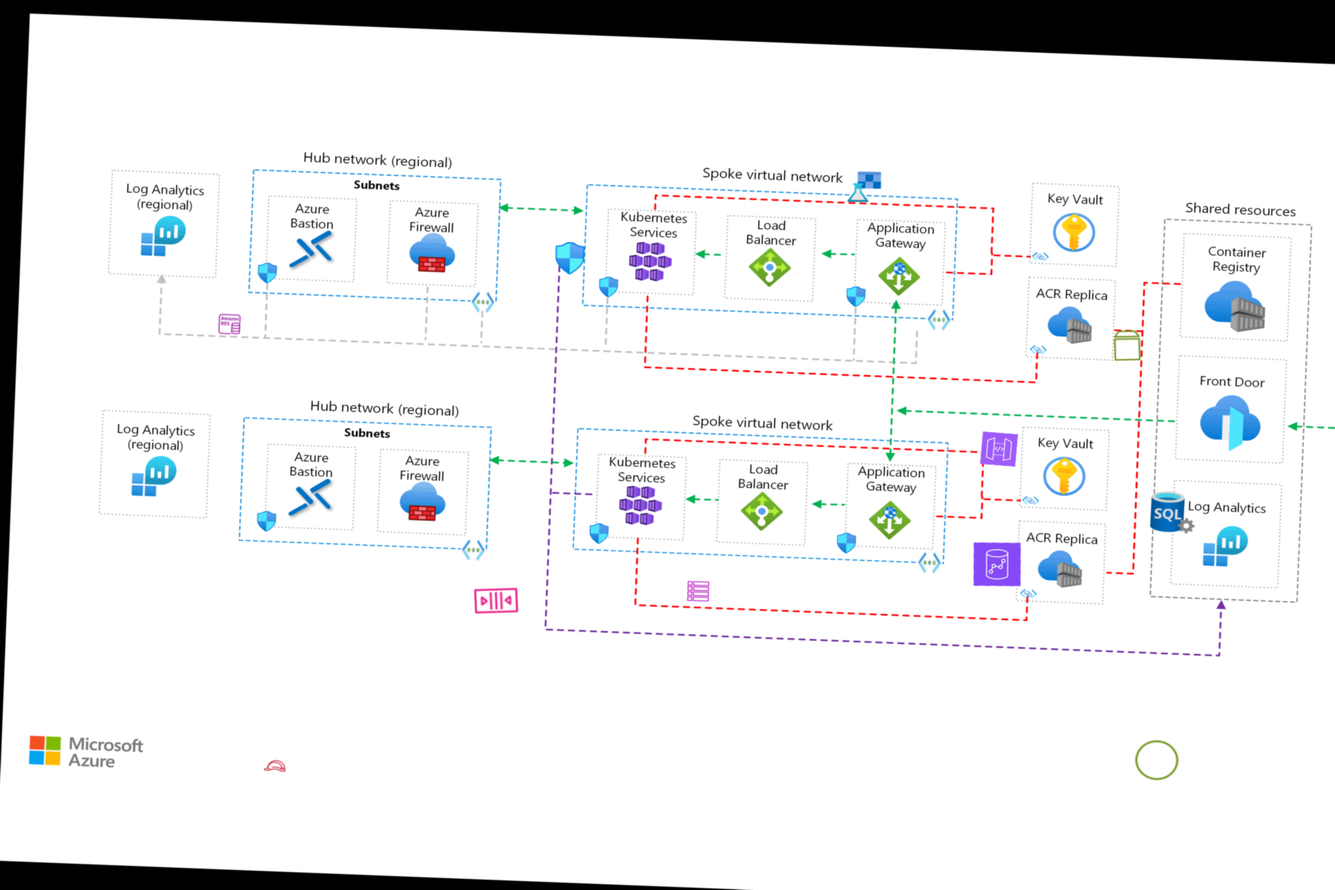aws_amazon_api_gateway: (980, 431, 1018, 467)
aws_amazon_redshift: (972, 541, 1022, 587)
aws_aurora_amazon_rds_instance: (217, 313, 242, 336)
aws_dynamodb_table: (685, 580, 711, 603)
aws_elastic_block_store_volume: (1108, 327, 1147, 363)
aws_identity_access_management_role: (262, 753, 288, 778)
aws_simple_queue_service_queue: (470, 576, 522, 624)
aws_simple_storage_service_object: (1132, 737, 1181, 783)
azure_machine_learning_studio_workspaces: (845, 169, 883, 204)
azure_network_security_groups: (551, 241, 588, 275)
azure_sql_server: (1148, 489, 1197, 535)
